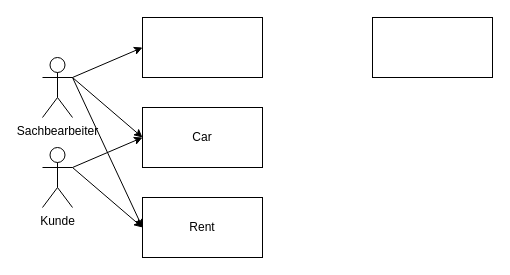
The diagram is 510 pixels wide and 275 high, and some of its shapes have lost their labels. The shapes that lost their labels are listed below. From the top down, each one's box as (x1, y1, x2, y2) in pixels, then its label:
(142, 16, 262, 78): Customer (-Management)
(372, 16, 492, 78): Authn / Authz
